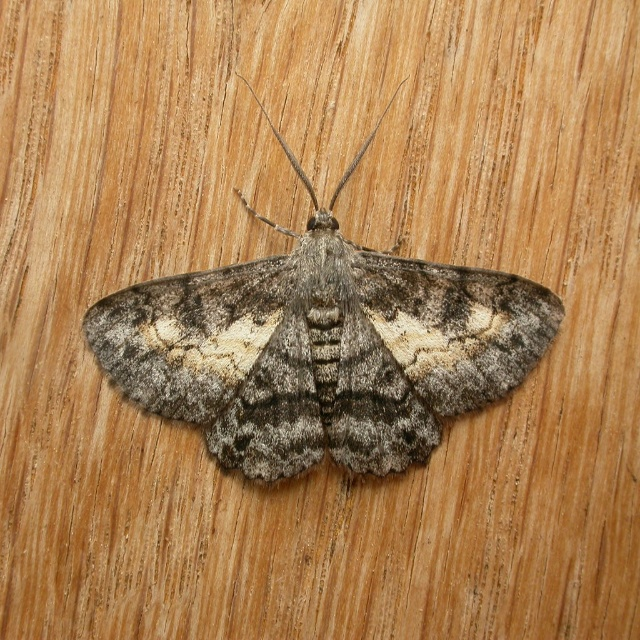Butterfly: (92, 87, 561, 487)
